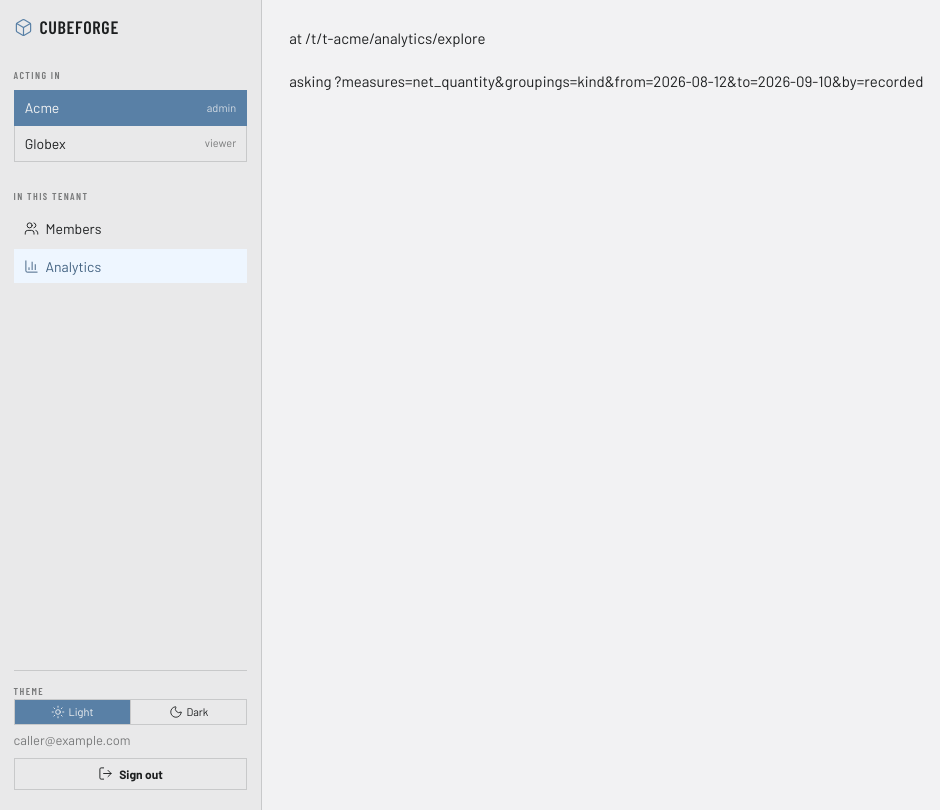
Test case: switching tenant from inside a section › lands on the other tenant’s same section, with the query intact
expect the element showing "Acme admin" is shown: met, box [14,90,247,126]
expect the text "at /t/t-acme/analytics/explore" is shown: met, box [289,29,486,47]
Click the link "Globex viewer" at (130, 144), box [14,126,247,162]
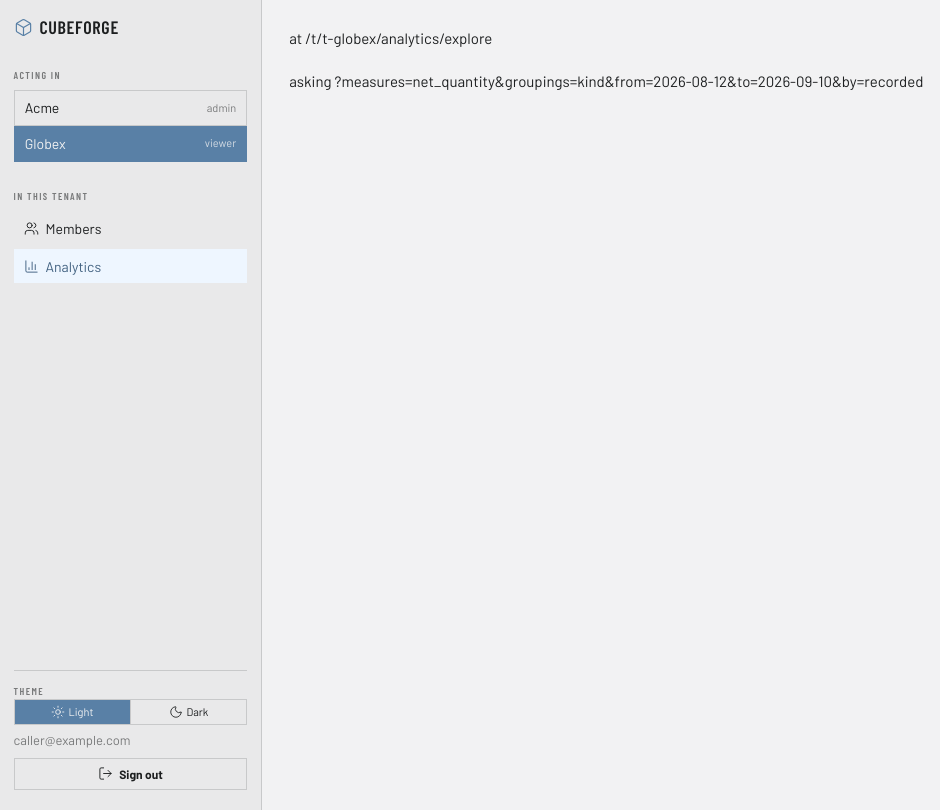
expect the text "at /t/t-globex/analytics/explore" is shown: met, box [289,29,492,47]
expect the element showing "Globex viewer" is shown: met, box [14,126,247,162]
